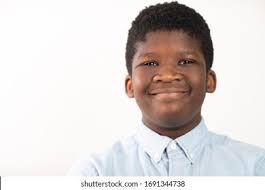person: (123, 1, 220, 124)
